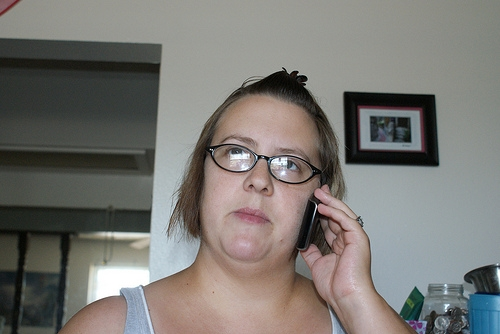phone: (303, 186, 343, 259)
talk: (206, 131, 375, 297)
